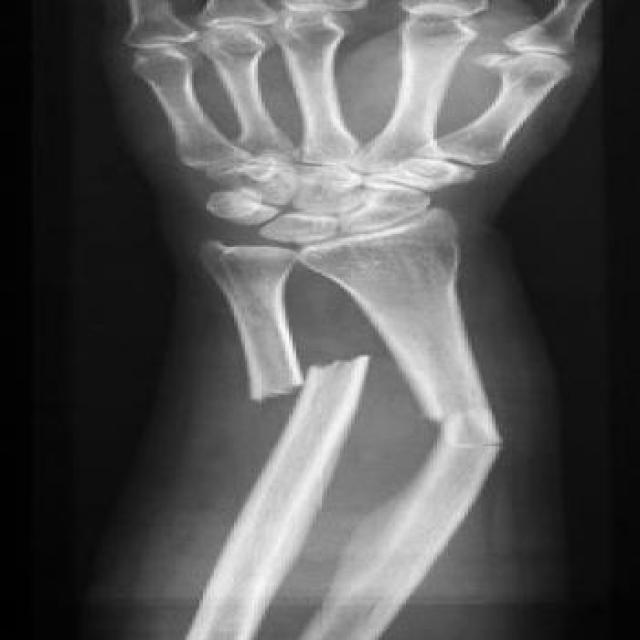Fracture: (229, 344, 374, 413), (419, 426, 525, 457)
